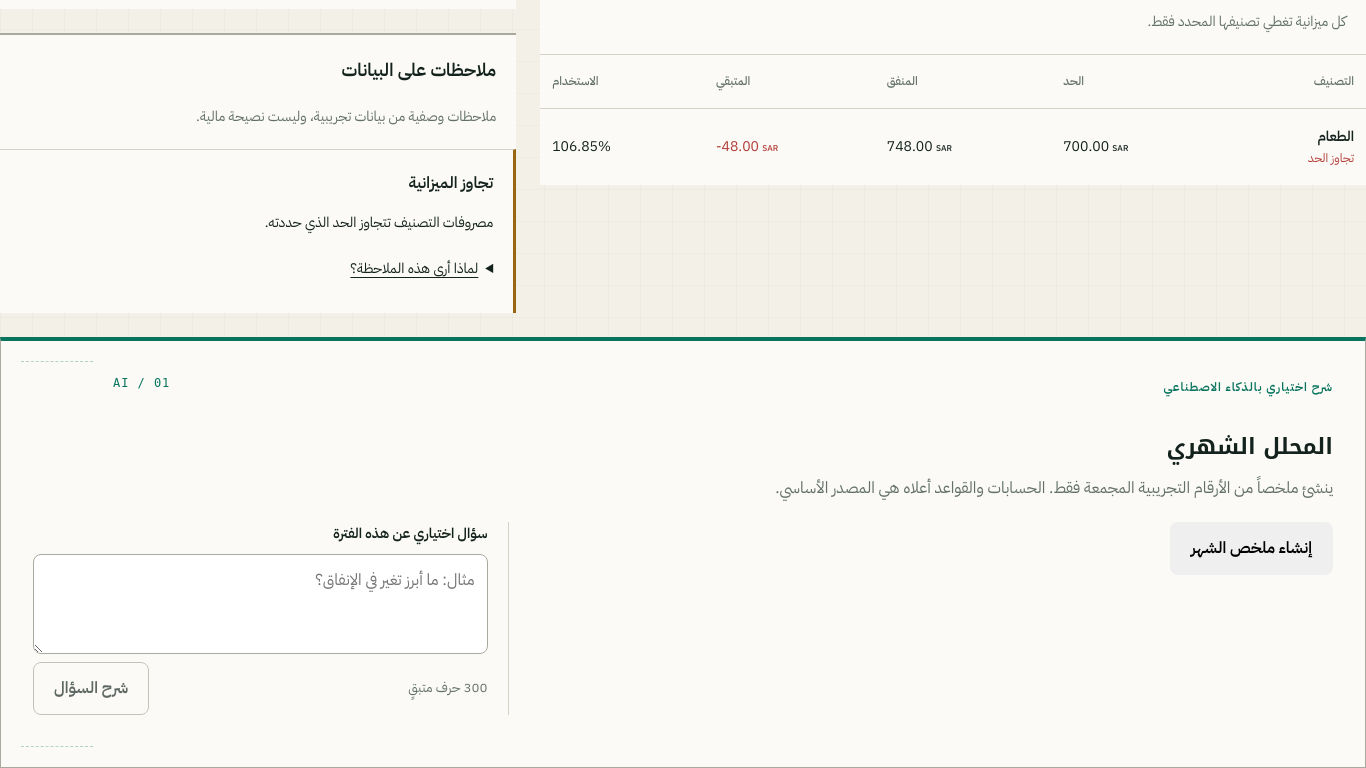
Scenario: Overview › generates an on-demand briefing and renders only server evidence values
The width and height of the screenshot is (1366, 768).
(page scrolled)
Click the button "إنشاء ملخص الشهر": (1252, 548) [1170,522,1333,575]
(page scrolled)
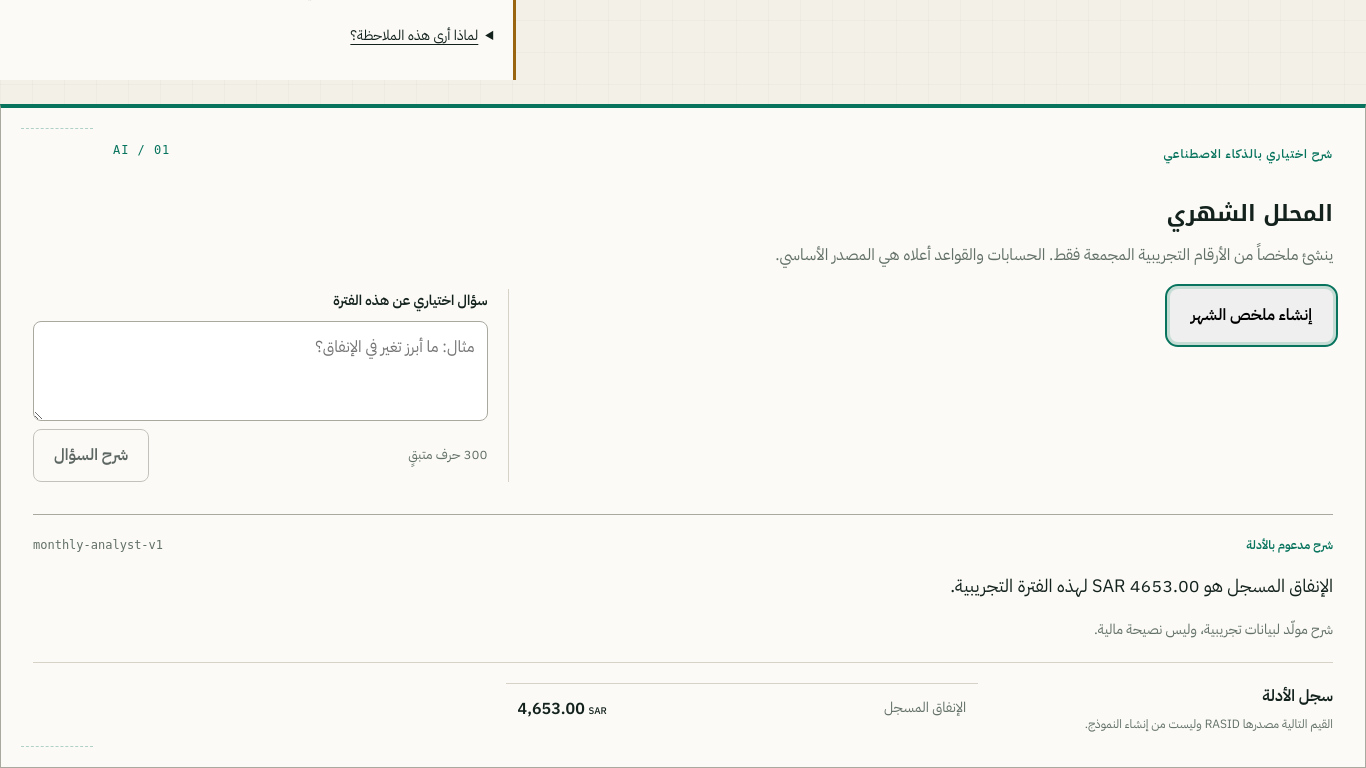
Check: the text "الإنفاق المسجل هو 4653.00 SAR لهذه الفترة التجريبية." is shown, box [950,572,1333,599]
Check: the heading "سجل الأدلة" is shown, box [1262,684,1333,708]
Check: the text "4,653.00" is shown 2 times
